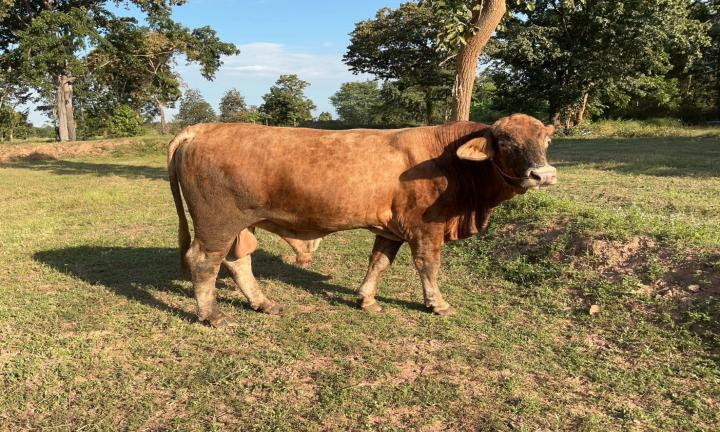Charolais: (168, 114, 556, 326)
